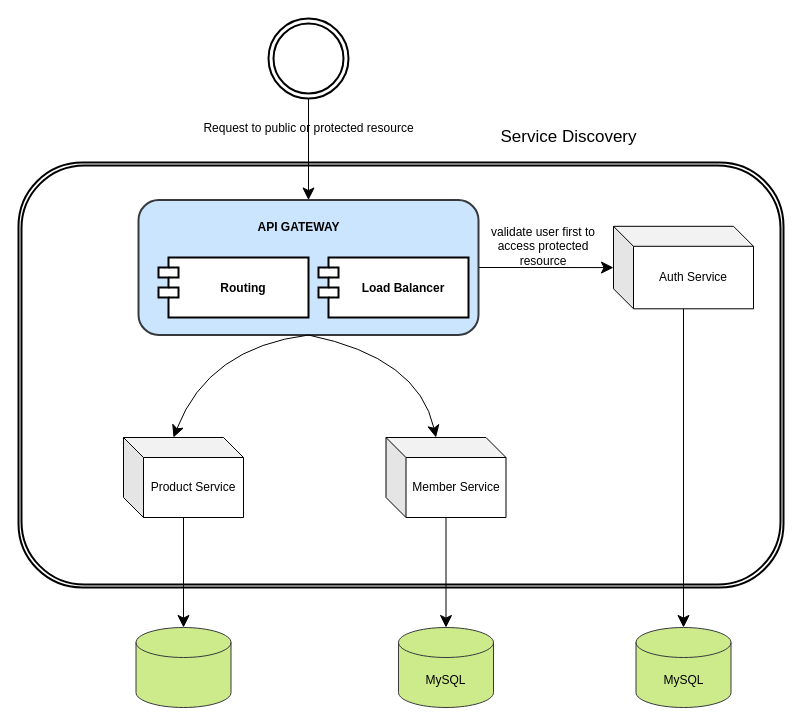
Some shapes in this 801 by 725 pixel diagram are drawn without their labels. The shapes that lost their labels are listed below. From the top down, each one's box as (x1, y1, x2, y2) in pixels, then its label:
(267, 17, 349, 99): Client
(135, 626, 231, 708): PostgreSQL
